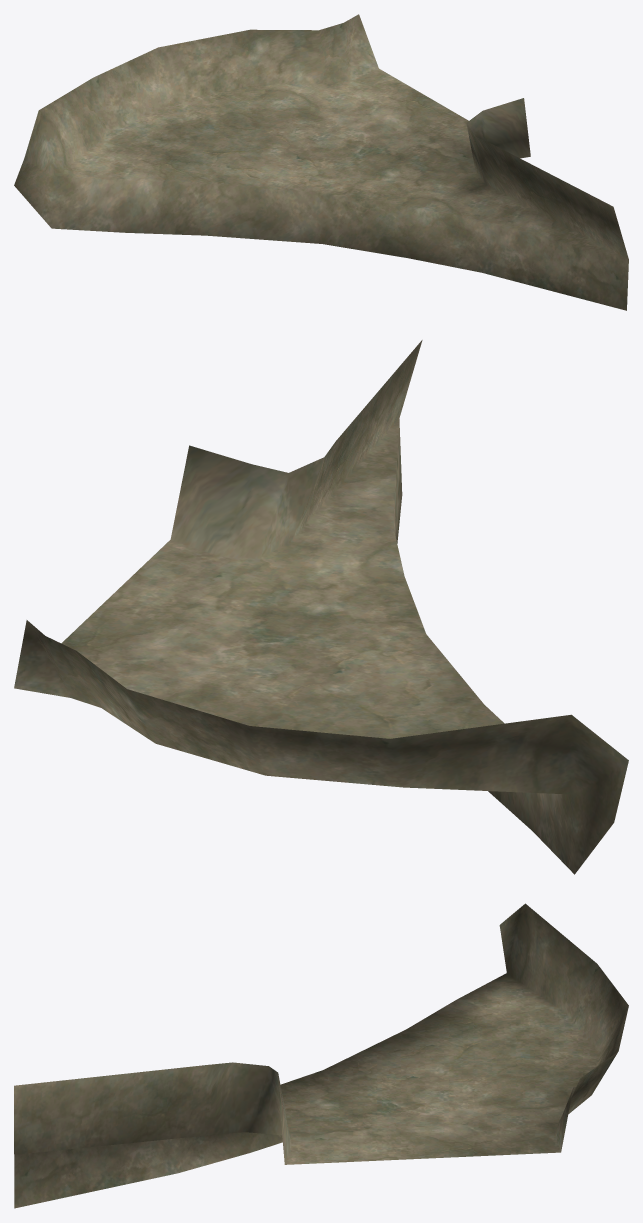
Rendered from EKH_GROTTO_PS_GR_LINE19.fbx.
3 renders of one model, top to bottom at view 1: azimuth 30°, elevation 25°; view 2: azimuth 150°, elevation 25°; view 3: azimuth 270°, elevation 25°, orthographic. The views are drawn at different scales.
Visible parts, largest first — view 1: EKH_GROTTO_PS_GR_LINE19; view 2: EKH_GROTTO_PS_GR_LINE19; view 3: EKH_GROTTO_PS_GR_LINE19.
Part boxes in pixels (bbox=[...]): EKH_GROTTO_PS_GR_LINE19: bbox=[14, 14, 628, 310]; EKH_GROTTO_PS_GR_LINE19: bbox=[14, 340, 628, 874]; EKH_GROTTO_PS_GR_LINE19: bbox=[14, 903, 628, 1208].
Bounding box in the file's own units: 33028 × 9308 × 40158.
1 material, 1 textured.
